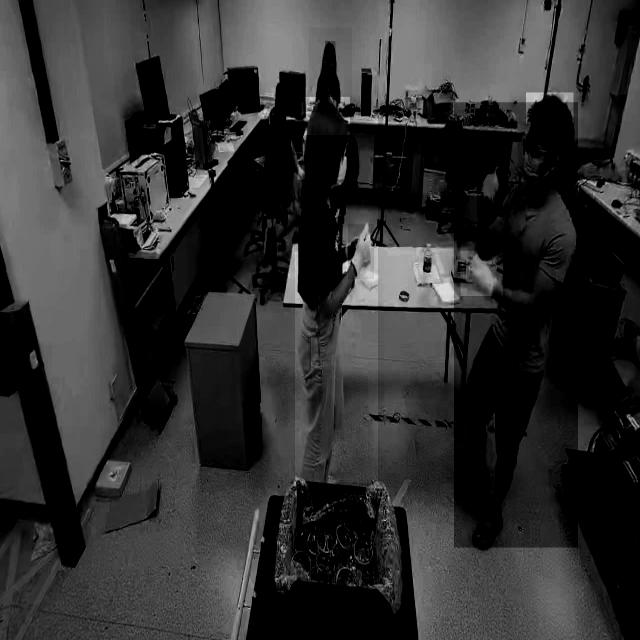face_mask: (518, 134, 559, 196)
face_nomask: (324, 56, 335, 74)
hand_glove: (461, 251, 503, 296), (477, 162, 503, 217), (348, 224, 374, 279)
hand_noglove: (321, 77, 331, 95), (297, 164, 305, 180)
head_nohelmet: (304, 97, 350, 136), (526, 92, 574, 124), (276, 78, 293, 94), (324, 41, 336, 53)
person: (454, 102, 578, 548), (294, 112, 378, 484), (308, 28, 352, 114)
